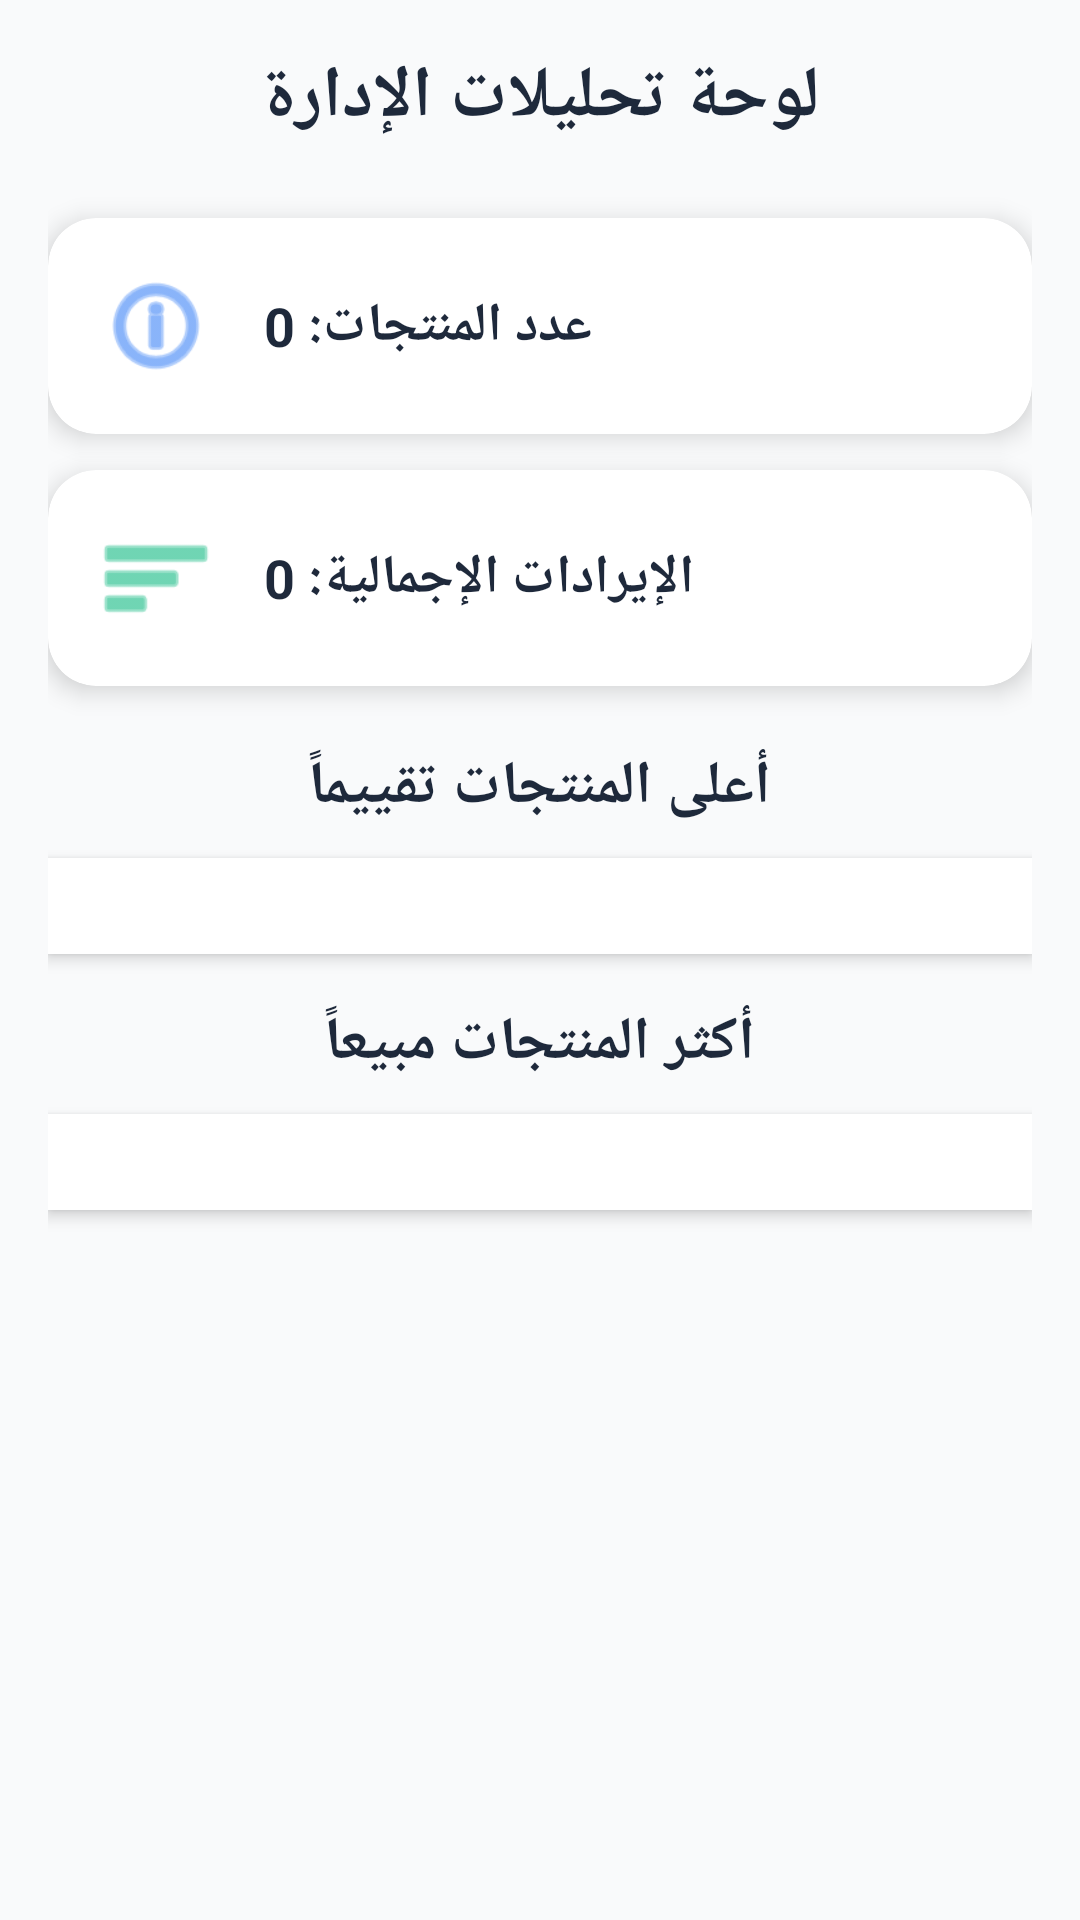

Locate icon controls on the screen. Image size 1080x1920, boxes as [left=x1, top=y1, right=x2, bottom=y2].
info details: [left=113, top=283, right=199, bottom=369]
sort by size: [left=104, top=545, right=208, bottom=612]
